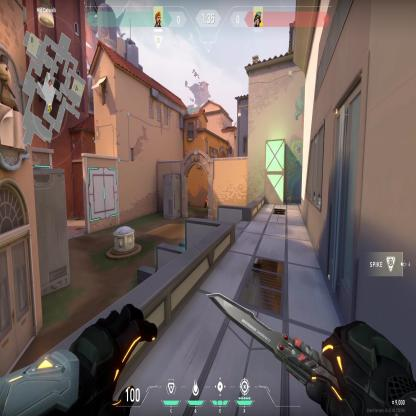enemy: (205, 194, 208, 218)
